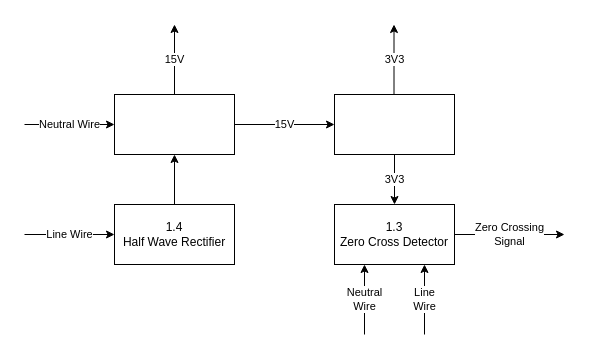
Some shapes in this 590 by 360 pixel diagram are drawn without their labels. Each missing label, with the centre of its shape:
1.1 Switching Power Supply: the point at 174,124
1.2 3V3 Buck Converter: the point at 394,124
